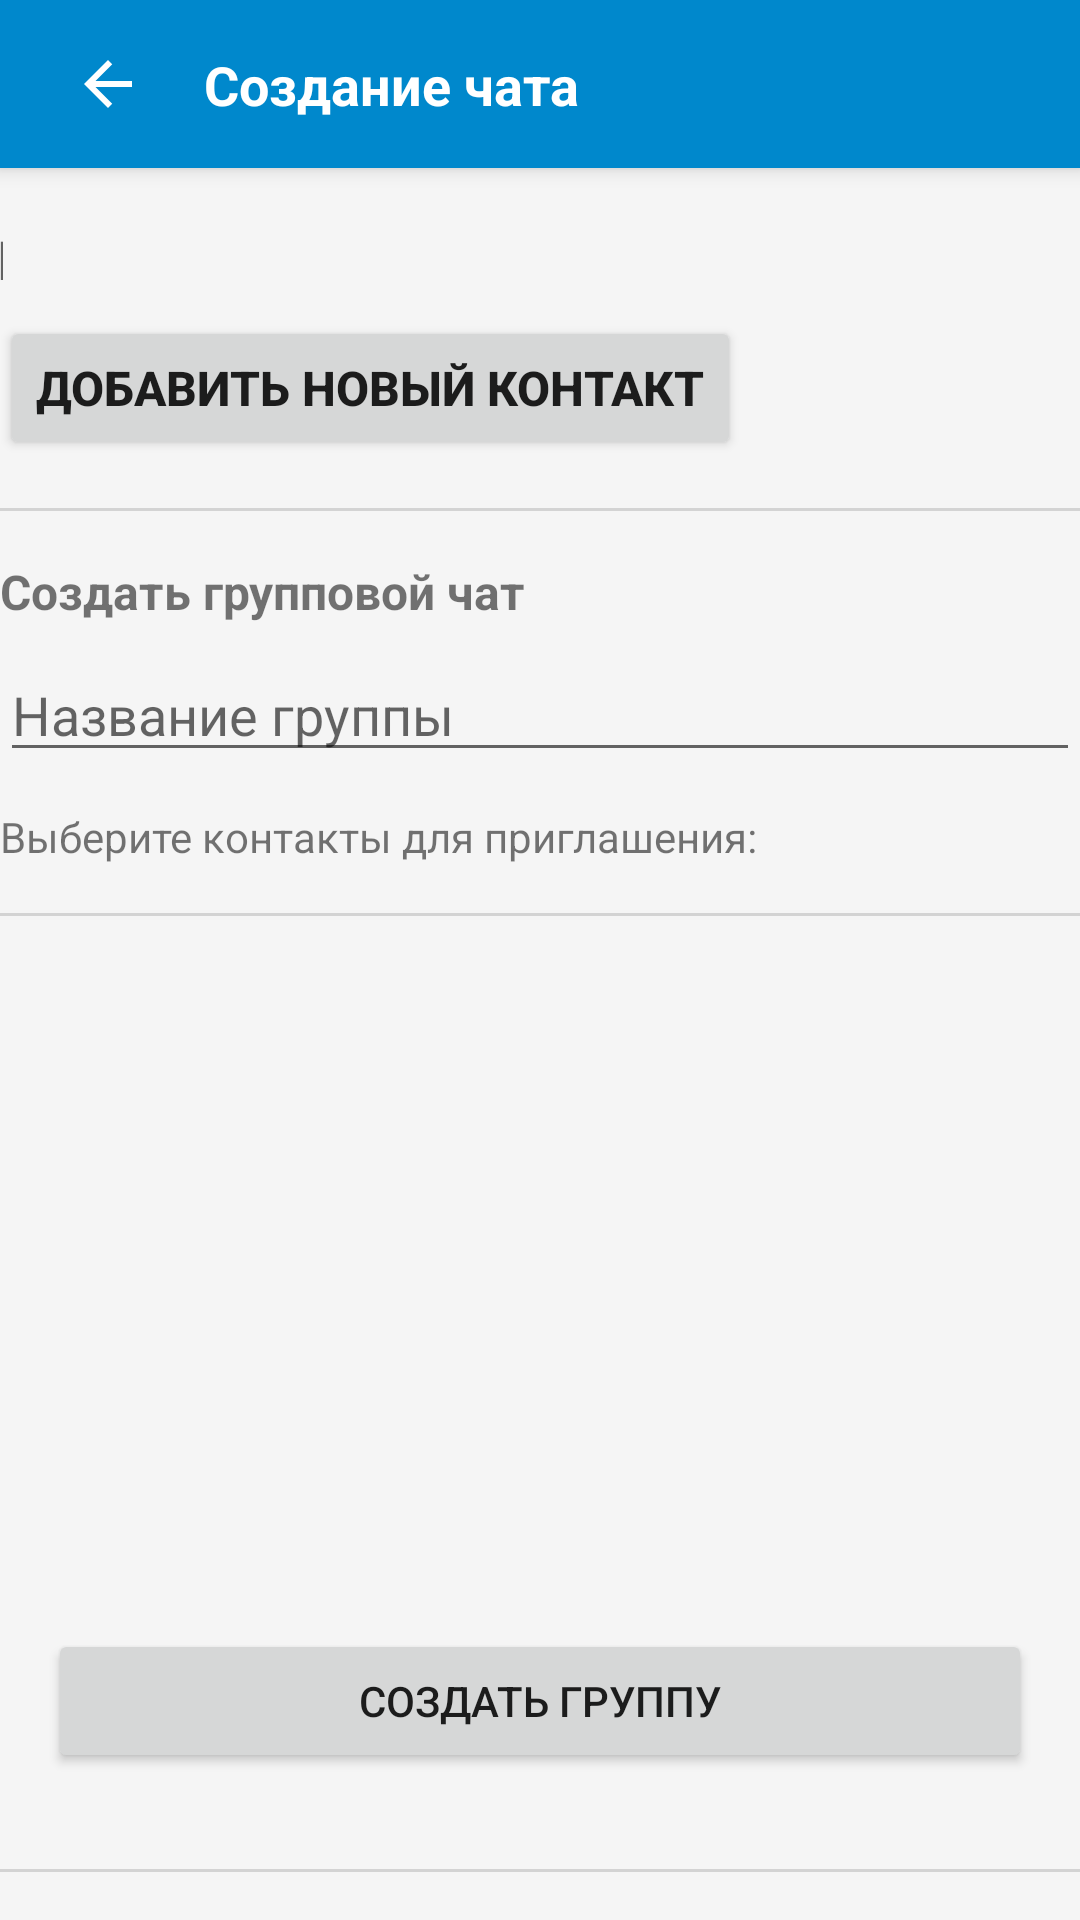

Screen size 1080px×1920px. Icon name, then its box in pixels as (x1, y1, x2, y2):
Назад: (84, 60, 132, 108)
